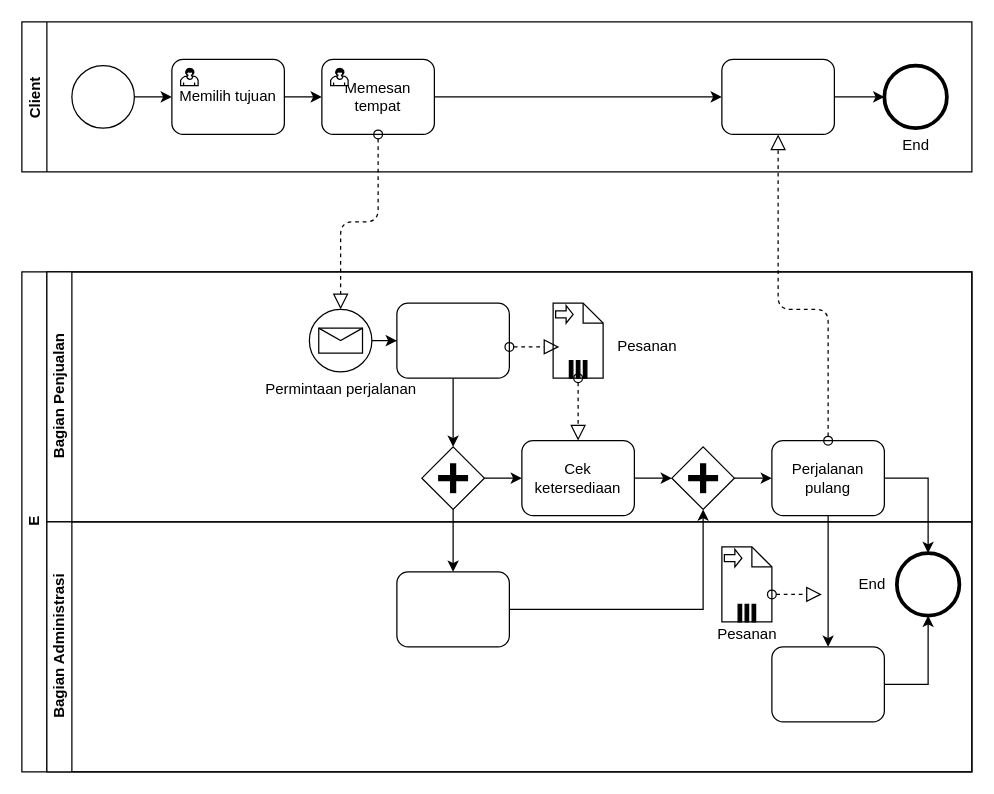
Some shapes in this 994 by 794 pixel diagram are drawn without their labels. Each missing label, with the centre of its shape:
Cek Kesanggupan: point (452, 609)
Membuat berkas: point (452, 340)
Start: point (102, 96)
Tagihan: point (827, 684)
Task: point (777, 96)
